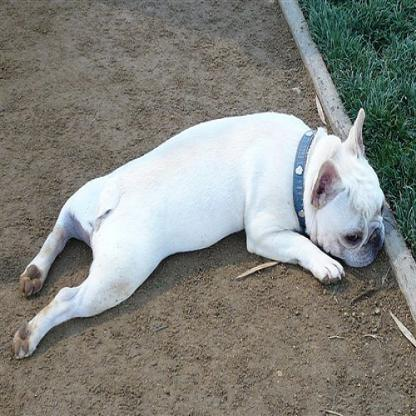French_bulldog: (8, 103, 386, 364)
